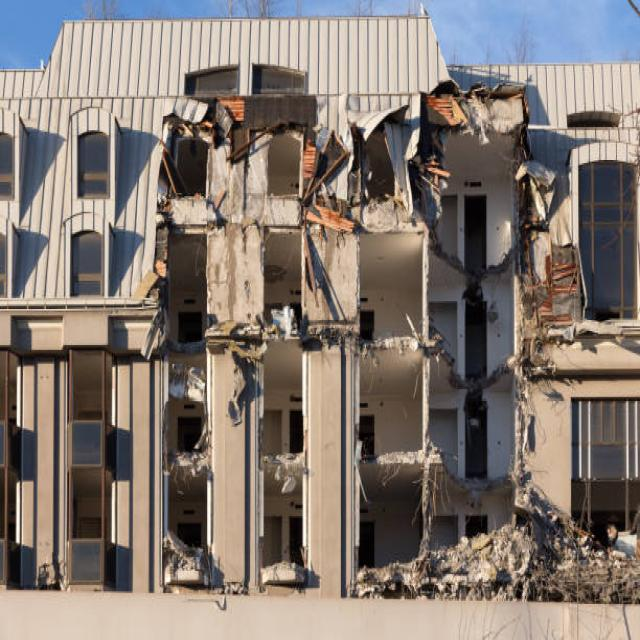Destroyed_building: (136, 0, 624, 640)
